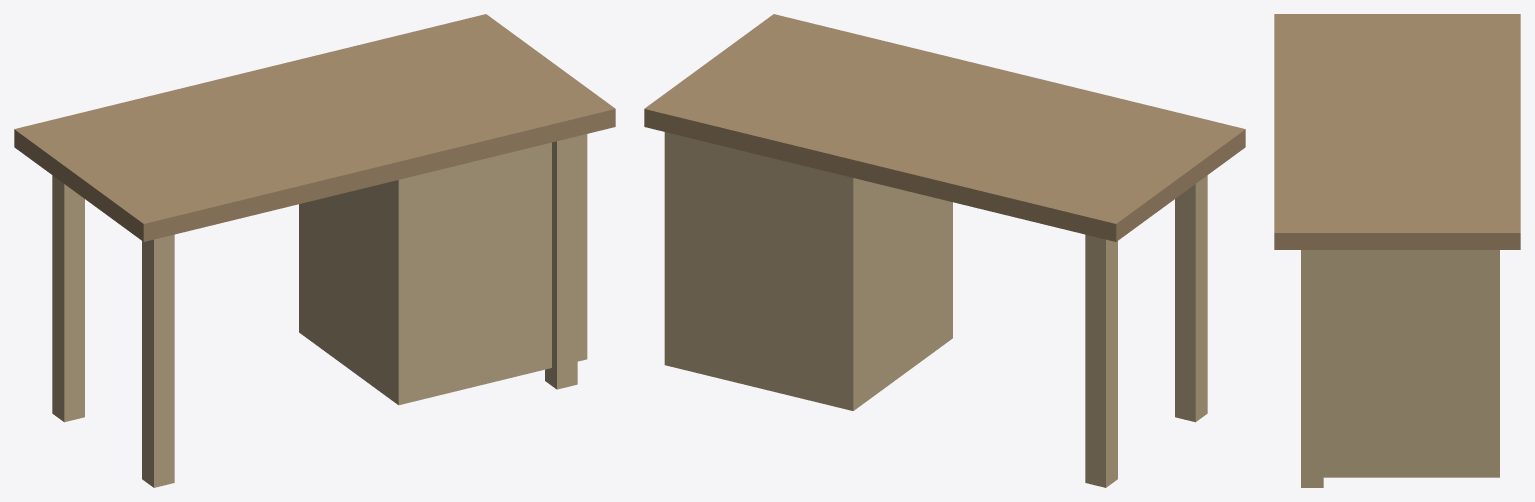
Rendered from mdl_furniture_desk_001.glb.
3 renders of one model, left to right at view 1: azimuth 30°, elevation 25°; view 2: azimuth 150°, elevation 25°; view 3: azimuth 270°, elevation 25°, orthographic. The views are drawn at different scales.
Parts seen in each view (by area): view 1: m_madera_clara, m_madera; view 2: m_madera_clara, m_madera; view 3: m_madera, m_madera_clara.
Part boxes in pixels (x1=…): m_madera_clara: x1=52, y1=134, x2=587, y2=487; m_madera: x1=14, y1=14, x2=615, y2=241; m_madera_clara: x1=664, y1=132, x2=1207, y2=487; m_madera: x1=644, y1=14, x2=1245, y2=241; m_madera: x1=1274, y1=14, x2=1520, y2=249; m_madera_clara: x1=1301, y1=250, x2=1499, y2=487.
Size of the model in its own units: 1.37 by 0.775 by 0.65.
